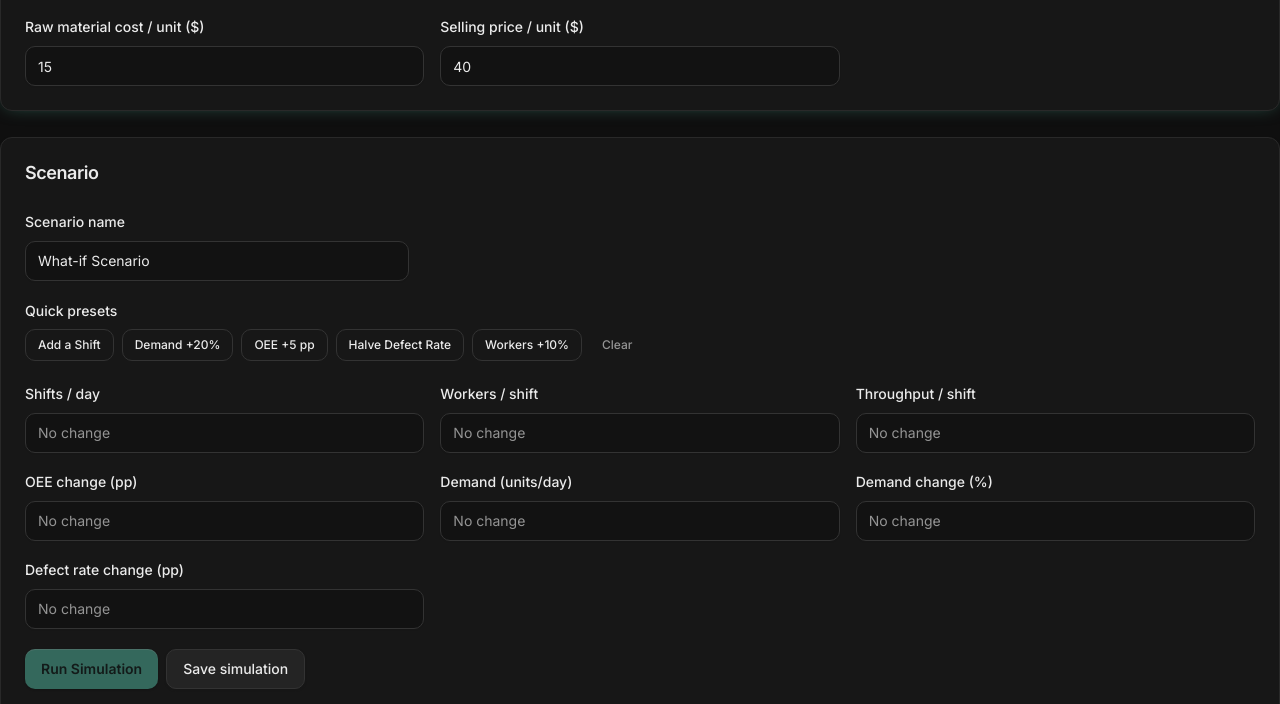
Simulation › Clear wipes the changes
(page scrolled)
Click the button "Demand +20%".
click(178, 345)  # box [122,329,233,361]
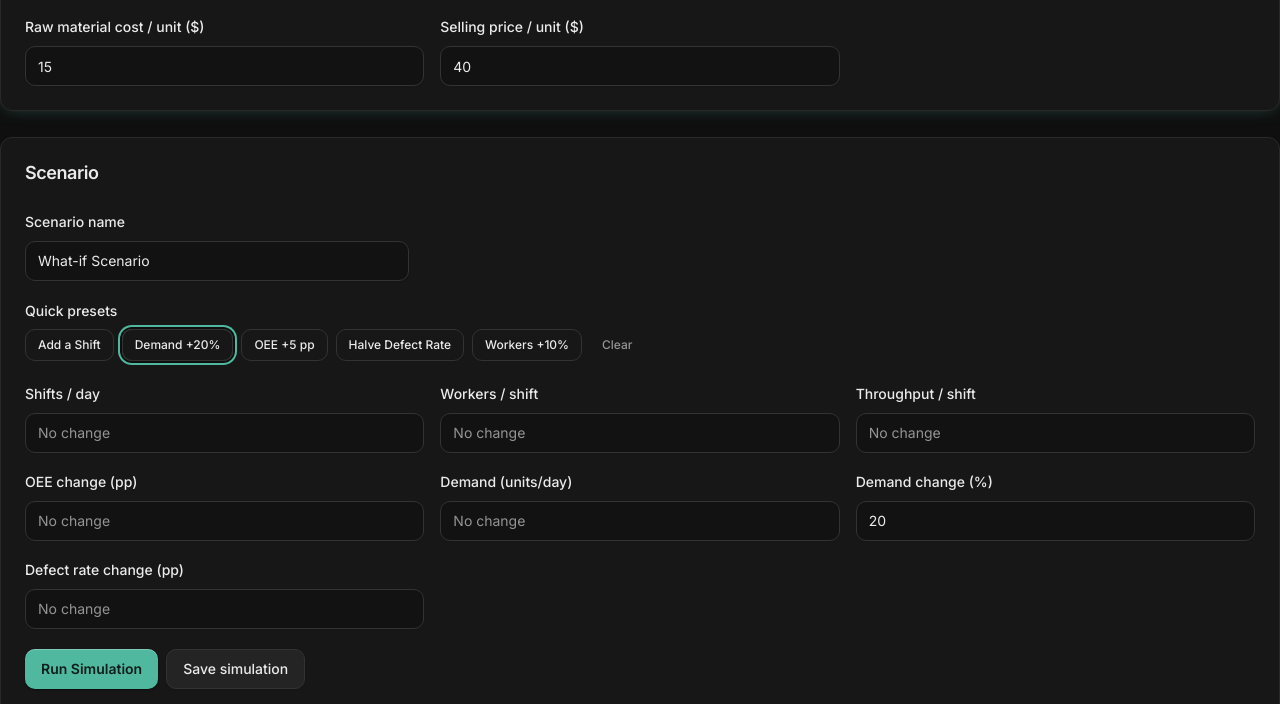
Now the button "Run Simulation" is enabled, box [25,649,158,689]
Click the button "Clear".
click(617, 345)  # box [590,329,644,361]
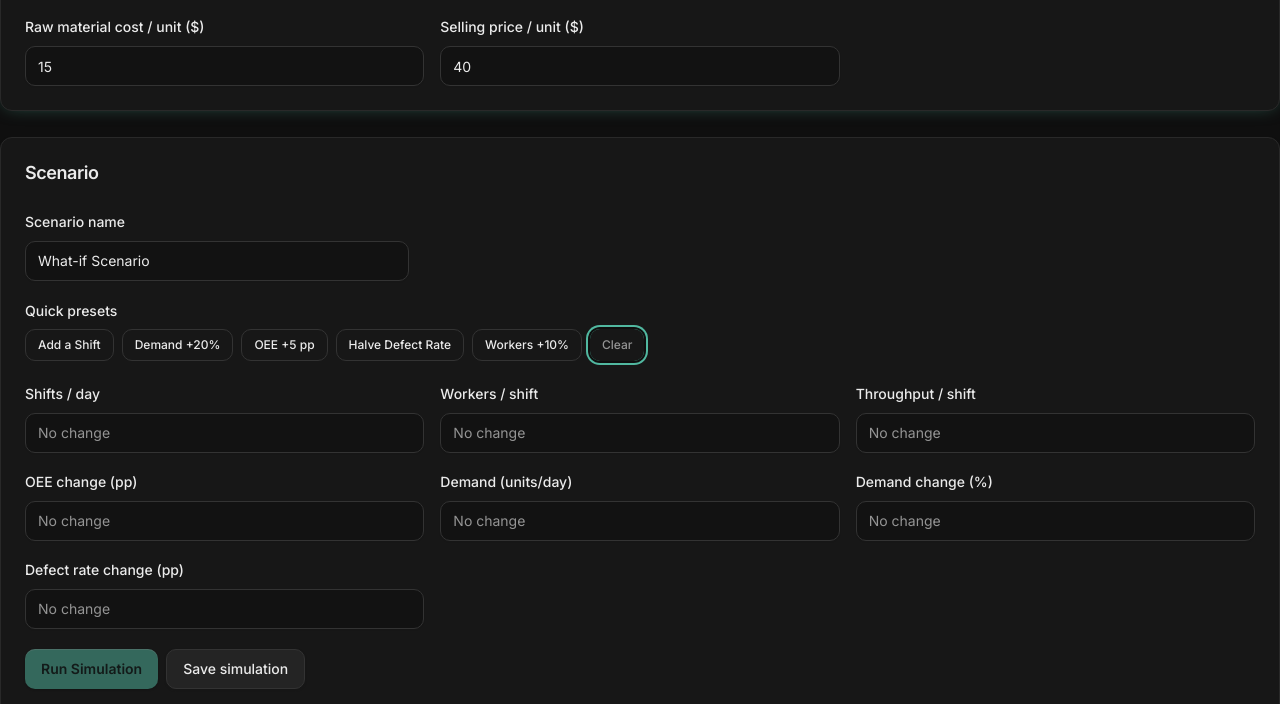
Now the number field with placeholder "No change" below "Demand change (%)" is empty, box [856,501,1255,541]
Now the button "Run Simulation" is disabled, box [25,649,158,689]
